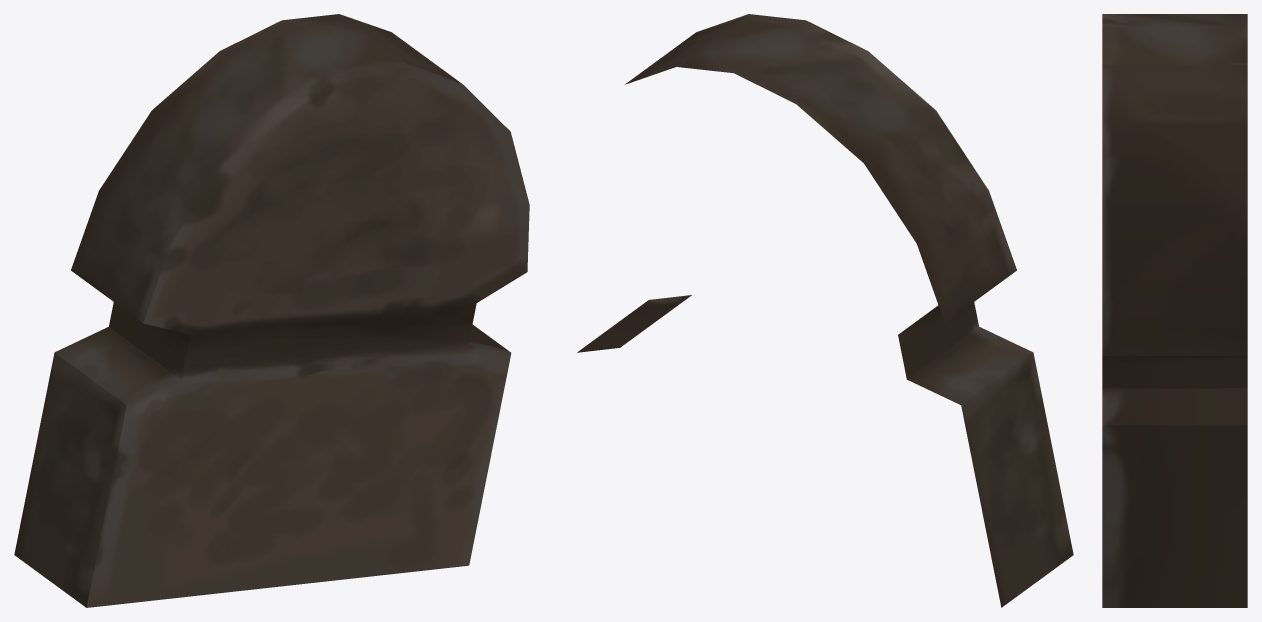
Rendered from model_chunk_2.glb.
3 views of the same model, side by side, from view 1: azimuth 30°, elevation 25°; view 2: azimuth 150°, elevation 25°; view 3: azimuth 270°, elevation 25° (orthographic).
Parts seen in each view (by area): view 1: Graveyard014; view 2: Graveyard014; view 3: Graveyard014.
Boxes of the visible parts, x1,y1,x2,y2 form: Graveyard014: (14,14,529,607); Graveyard014: (577,14,1073,607); Graveyard014: (1102,14,1247,607).
Bounding box in the file's own units: 1.6 × 1.79 × 0.4512.
Materials: 1 (1 with a texture image).
